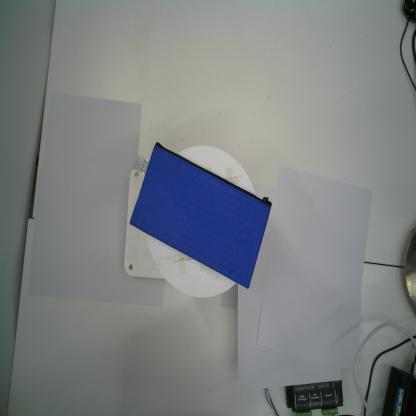Stationery: (128, 142, 272, 289)
